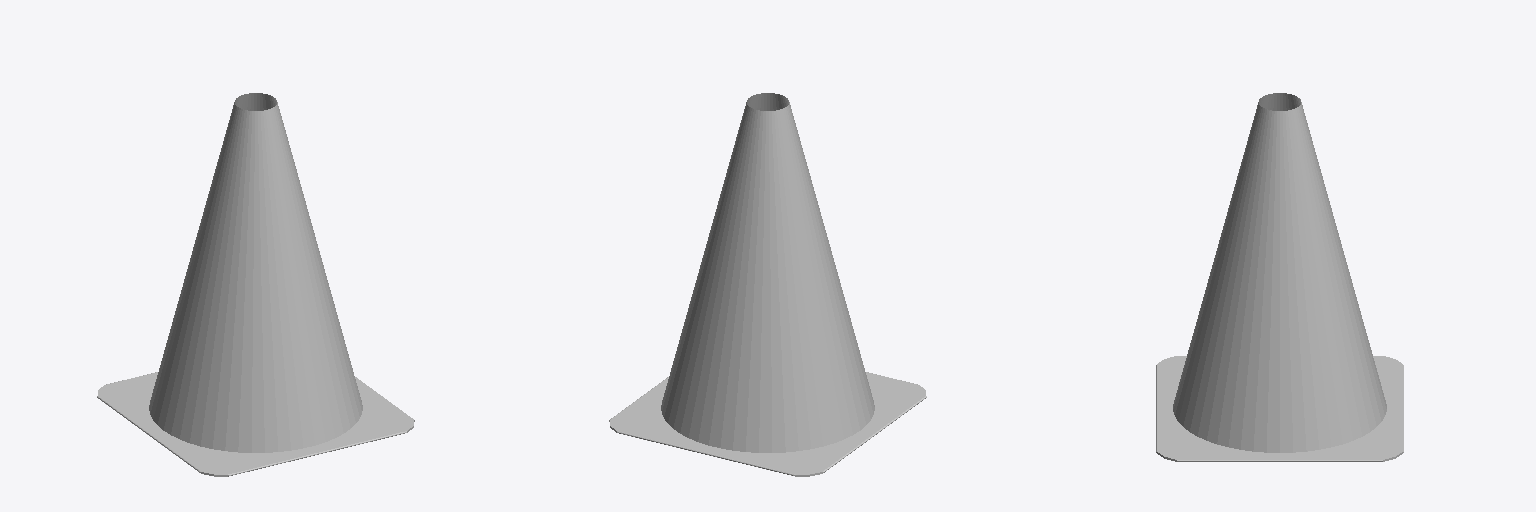
File: small_cone.obj
3 views of the same model, side by side, from view 1: azimuth 30°, elevation 25°; view 2: azimuth 150°, elevation 25°; view 3: azimuth 270°, elevation 25° (orthographic).
Visible parts, largest first — view 1: cone; view 2: cone; view 3: cone.
Part boxes in pixels (bbox=[...]): cone: bbox=[97, 93, 414, 476]; cone: bbox=[609, 93, 926, 476]; cone: bbox=[1156, 93, 1403, 461].
Bounding box in the file's own units: 22 × 30.19 × 22.